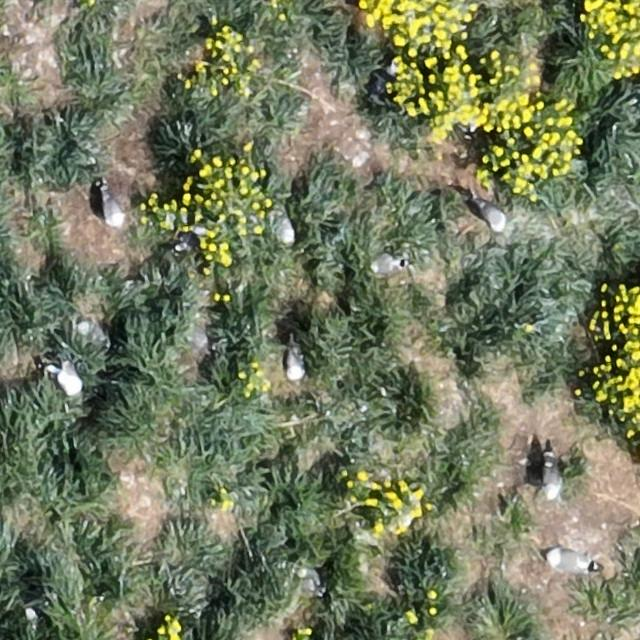umineko: (267, 212, 297, 246), (548, 550, 592, 572), (477, 200, 505, 229), (103, 190, 124, 226), (55, 367, 81, 396), (543, 462, 561, 498), (370, 255, 401, 275), (286, 350, 305, 382)
